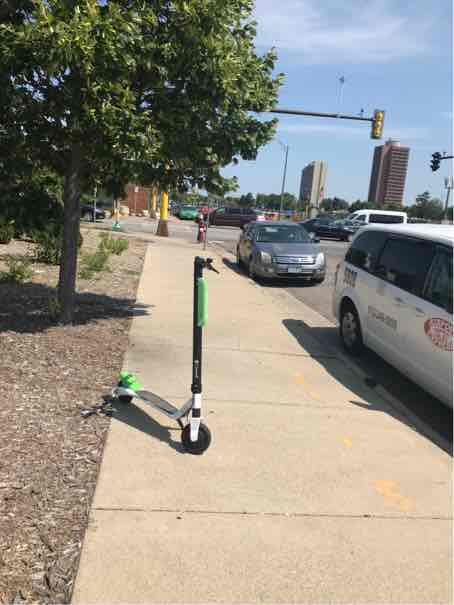scooter: (114, 211, 213, 473)
